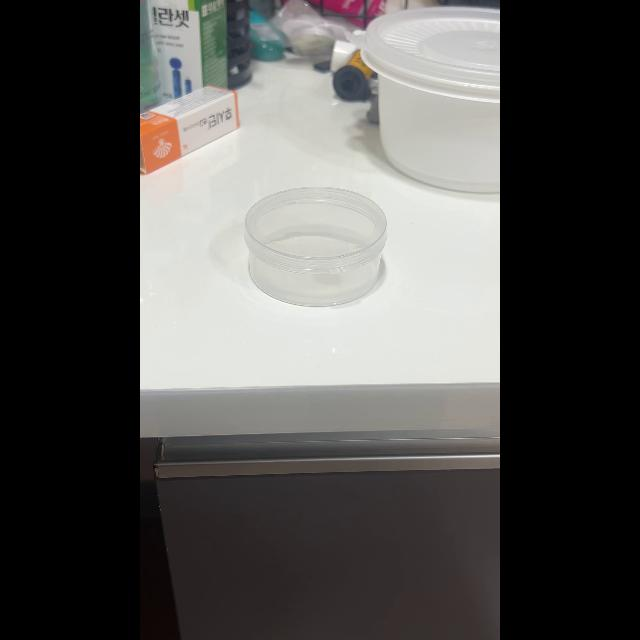clean: (244, 184, 388, 306)
